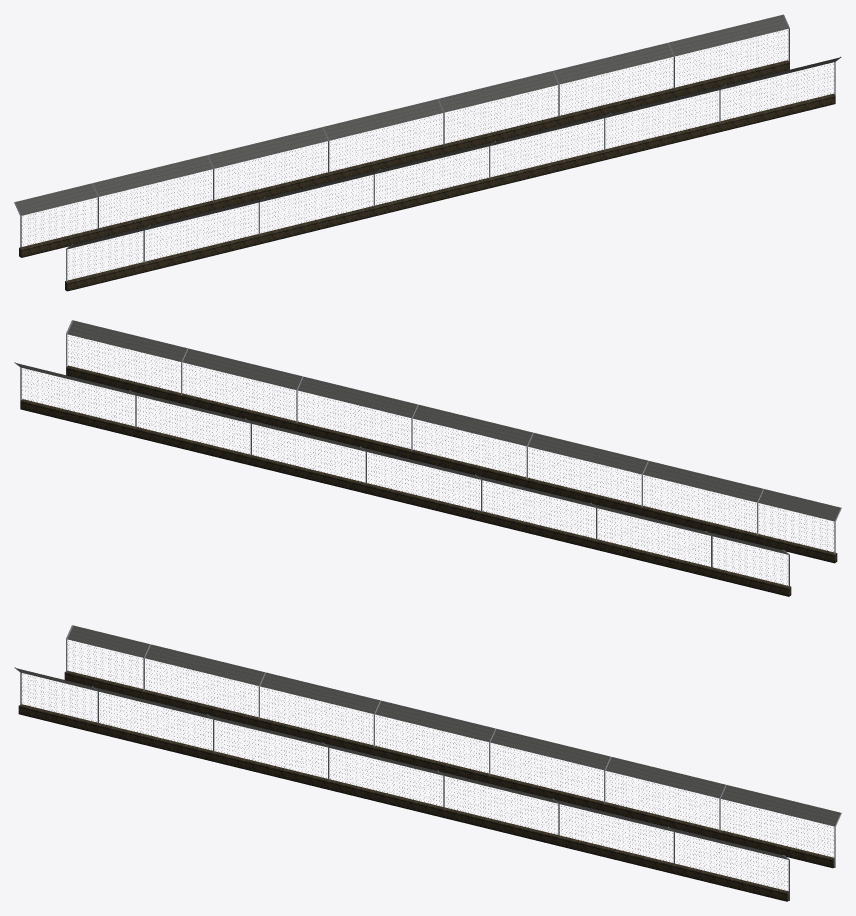
Rendered from vegaswtrainfence01.obj.
The picture shows the model from 3 angles, top to bottom: view 1: azimuth 30°, elevation 25°; view 2: azimuth 150°, elevation 25°; view 3: azimuth 330°, elevation 25°; orthographic projection.
Parts seen in each view (by area): view 1: vegaswtrainfence01; view 2: vegaswtrainfence01; view 3: vegaswtrainfence01.
Part boxes in pixels (<box>): vegaswtrainfence01: <box>14,14,841,291</box>; vegaswtrainfence01: <box>14,320,841,596</box>; vegaswtrainfence01: <box>14,625,841,901</box>.
Size of the model in its own units: 98.58 by 6.15 by 12.88.
4 materials, 4 textured.
